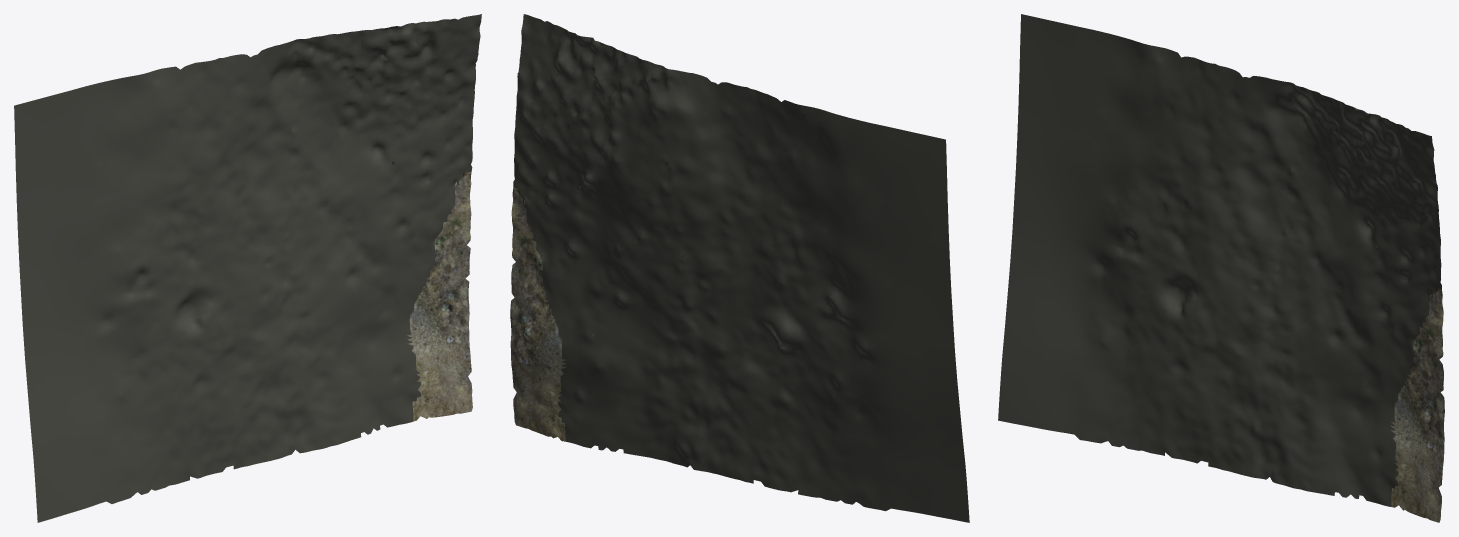
The model's file is tile_8.obj.
3 views of the same model, side by side, from view 1: azimuth 30°, elevation 25°; view 2: azimuth 150°, elevation 25°; view 3: azimuth 330°, elevation 25° (orthographic). The views are drawn at different scales.
Bounding box in the file's own units: 1.95 × 1.7 × 0.1954.
Materials: 1 (1 with a texture image).
